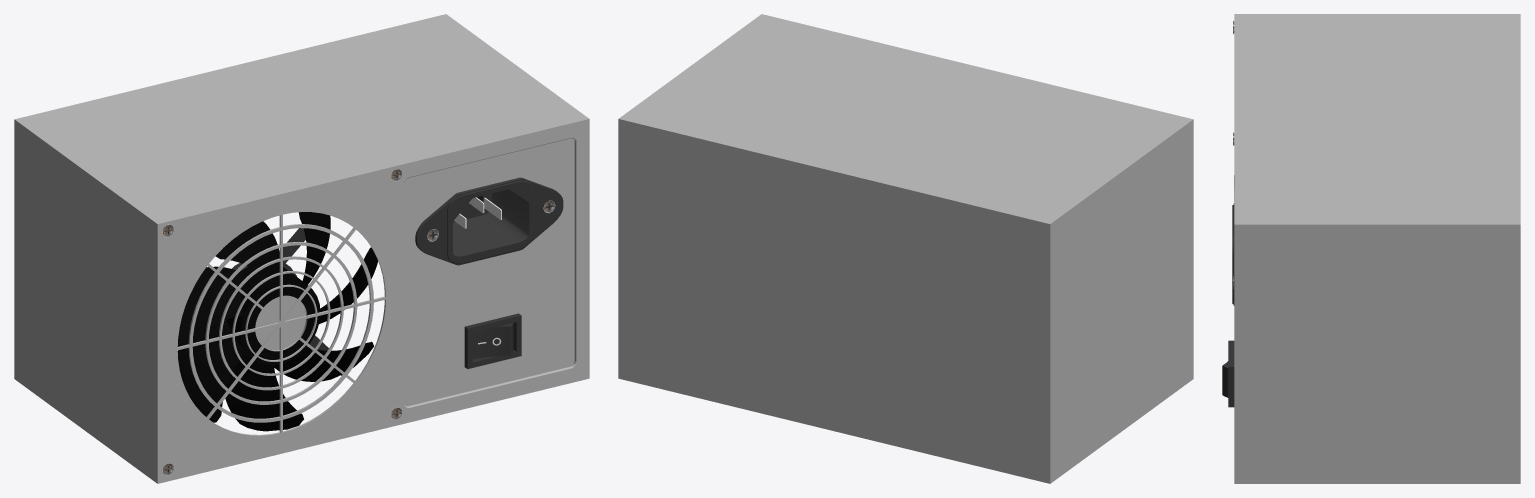
File: psu-atx.glb
3 renders of one model, left to right at view 1: azimuth 30°, elevation 25°; view 2: azimuth 150°, elevation 25°; view 3: azimuth 270°, elevation 25°, orthographic.
Visible parts, largest first — view 1: Object_16, Object_8, Object_4, Object_2, Object_9; view 2: Object_16; view 3: Object_16, Object_2.
Boxes of the visible parts, x1,y1,x2,y2 form: Object_16: [14, 14, 589, 483]; Object_8: [177, 212, 377, 431]; Object_4: [415, 177, 563, 265]; Object_2: [206, 228, 521, 375]; Object_9: [162, 169, 438, 475]; Object_16: [618, 14, 1193, 483]; Object_16: [1234, 14, 1520, 483]; Object_2: [1222, 340, 1234, 407].
Bounding box in the file's own units: 4.01 × 2.3 × 2.4.
7 materials, 7 textured.
